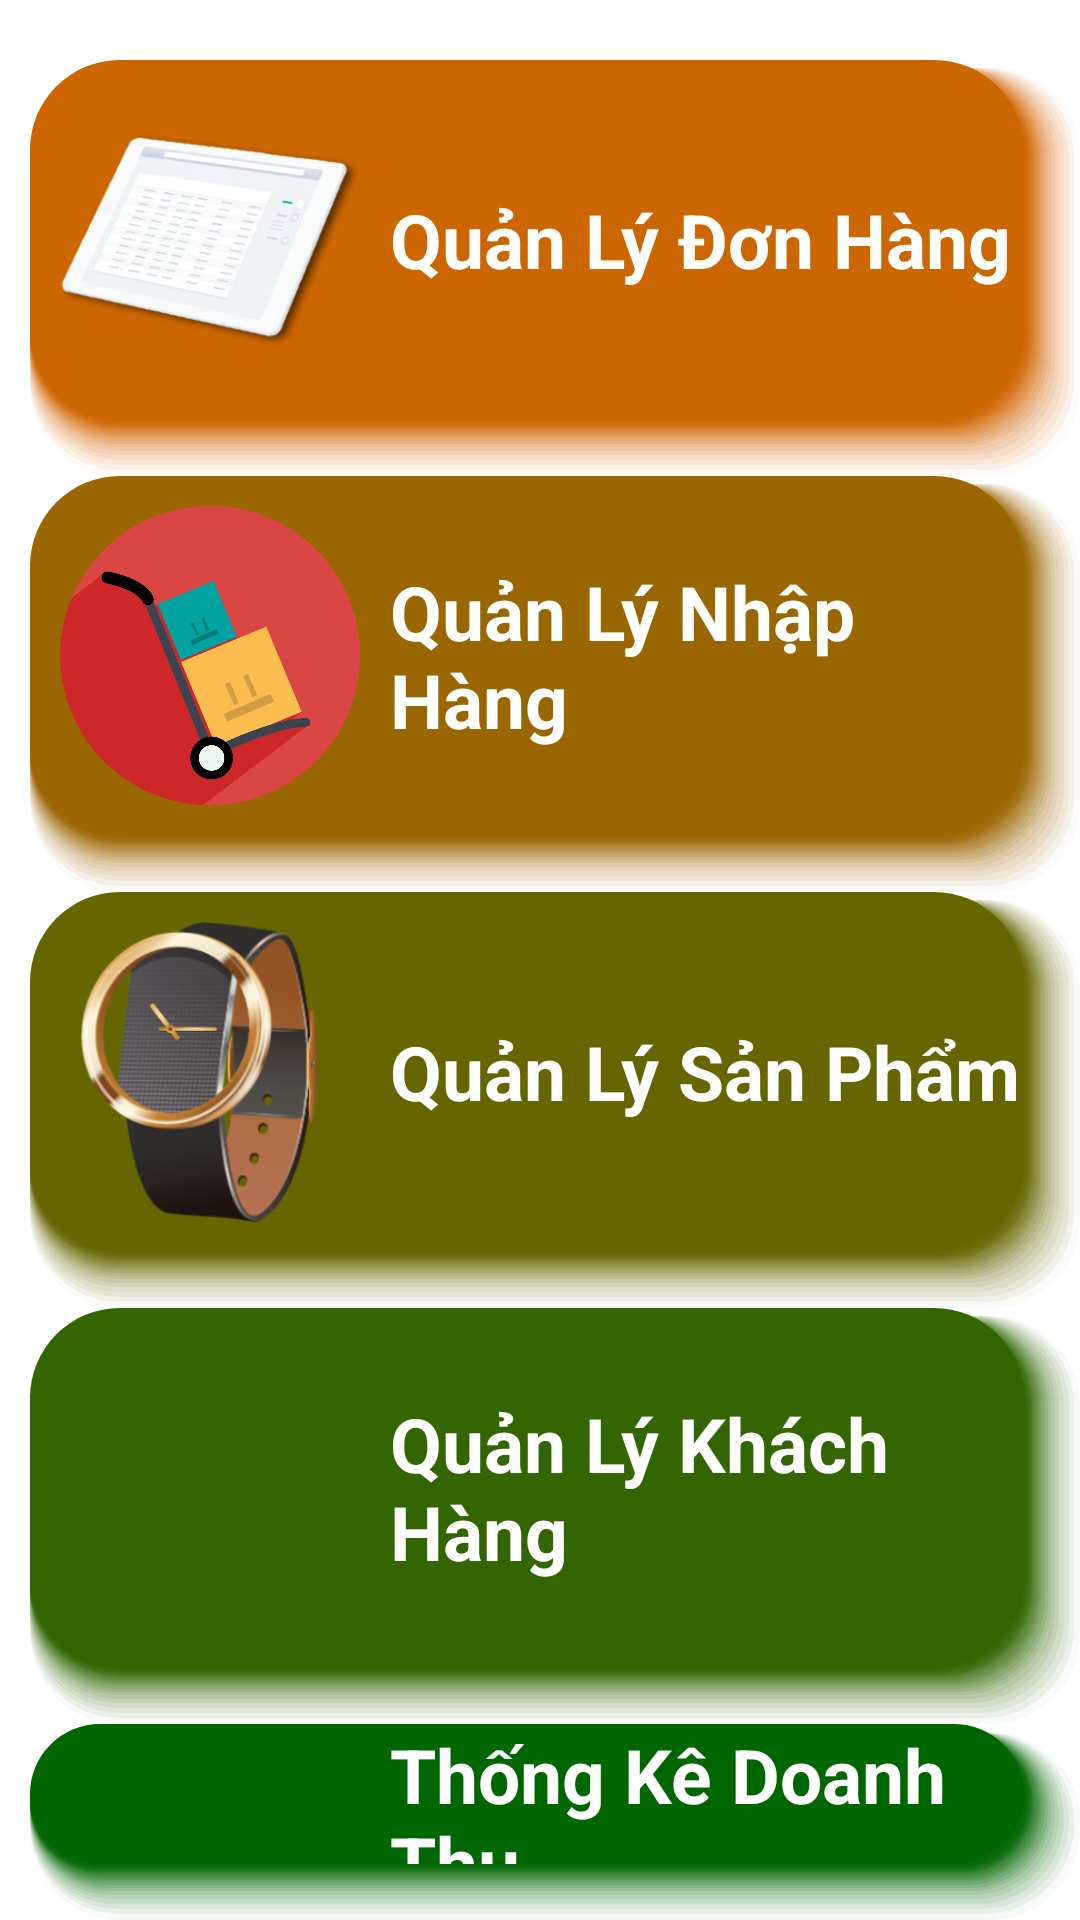

Where icons sit on this 1080×1920 app screen, as (x1, y1, x2, y2):
dongho: (81, 922, 317, 1222)
nhaphang: (60, 506, 360, 805)
phieudat: (61, 137, 354, 342)
